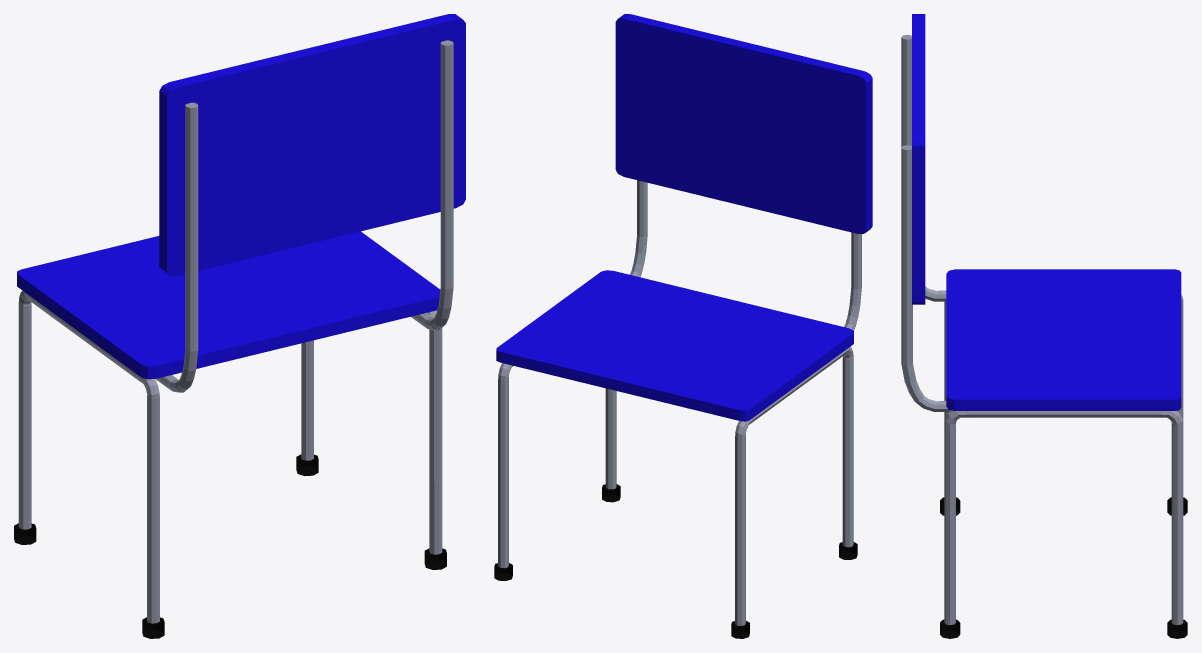
File: cadeira.fbx
3 renders of one model, left to right at view 1: azimuth 30°, elevation 25°; view 2: azimuth 150°, elevation 25°; view 3: azimuth 270°, elevation 25°, orthographic. The views are drawn at different scales.
Parts seen in each view (by area): view 1: Cube; view 2: Cube; view 3: Cube.
Boxes of the visible parts, x1,y1,x2,y2 form: Cube: (14,14,465,638); Cube: (494,14,872,638); Cube: (901,14,1187,638).
Size of the model in its own units: 94.78 by 168 by 87.74.
